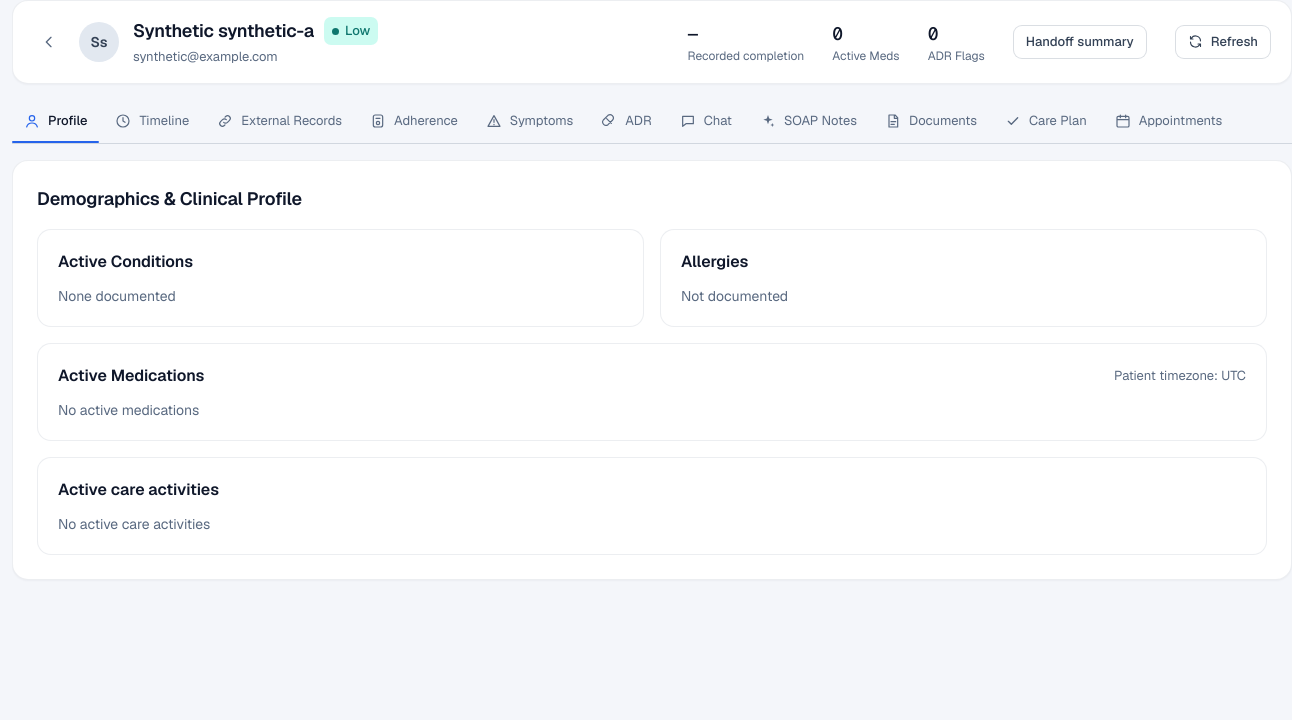
it: patient detail load states › clears loaded content during refresh and after assignment denial
The image size is (1292, 720).
Expected: the heading "Synthetic synthetic-a" is shown, [133,17,314,45]
Step 1. Click the button with aria-label "Refresh patient data" → (1223, 42), box [1175,25,1271,59]
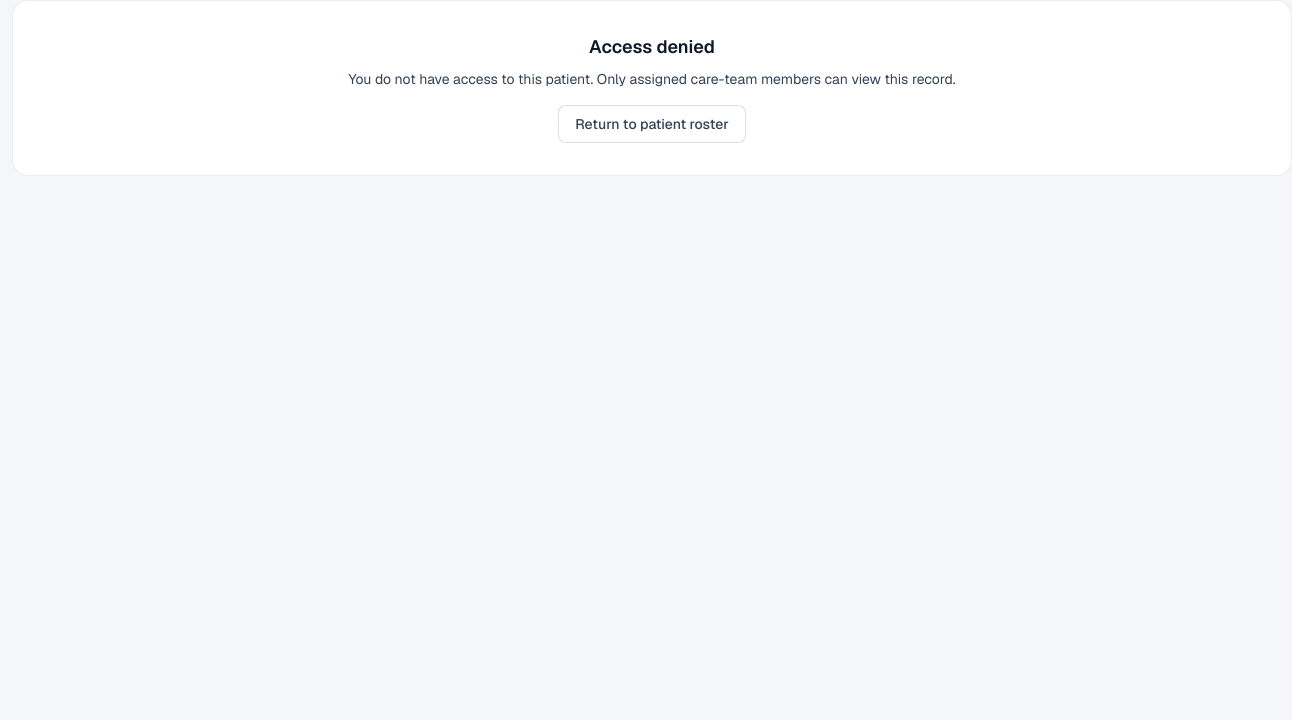
Now the heading "Access denied" is shown, box [589,35,715,58]
Now the text "synthetic@example.com" is gone
